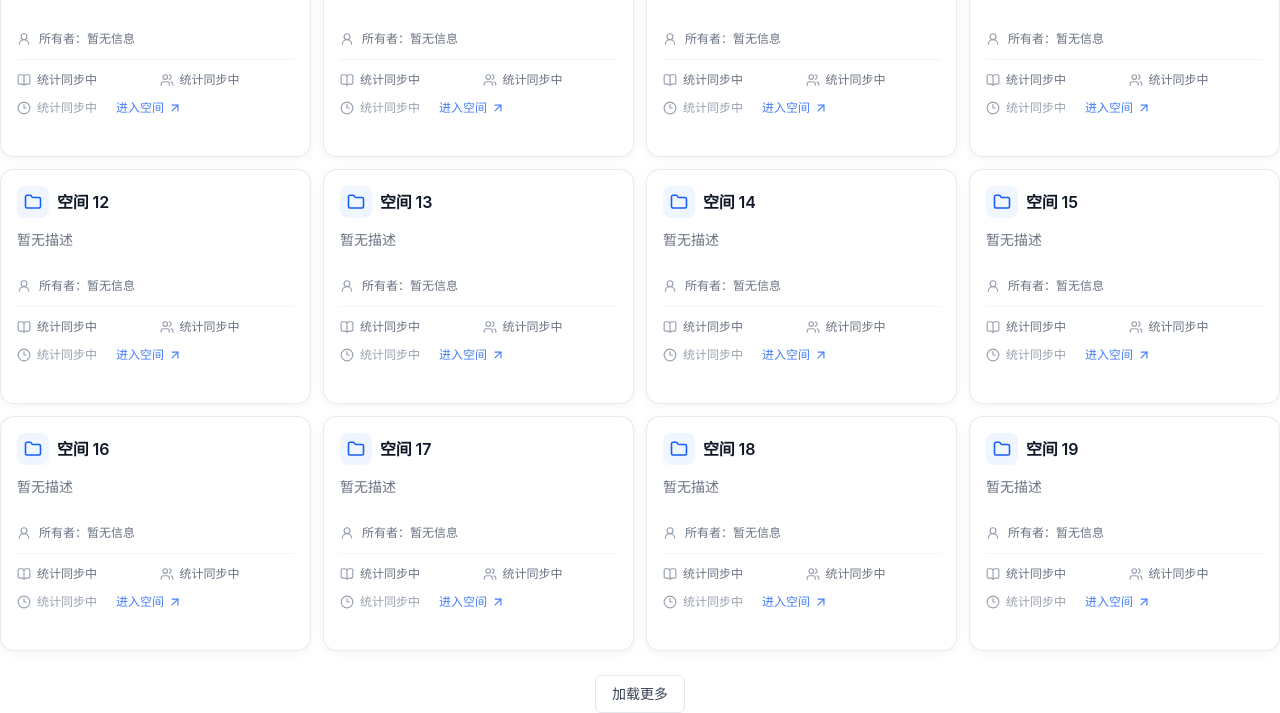
Test case: Dashboard Space pagination and creation › loads and de-duplicates the next page when more Spaces exist
(page scrolled)
Step 1. Click the button "加载更多" → (640, 694), box 595,675 -> 685,712
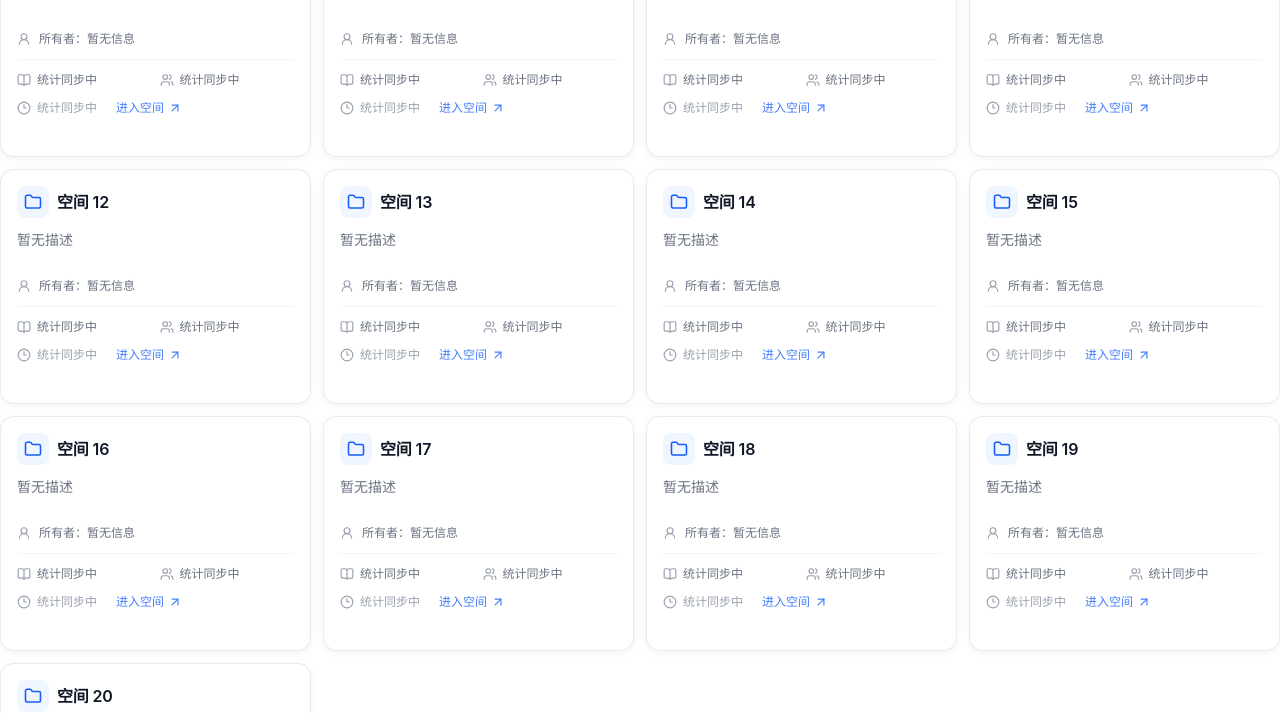
Expected: the number of headings "空间 19" is 1, 1026,437 -> 1078,461
Expected: the heading "空间 20" is shown, 57,684 -> 113,708
